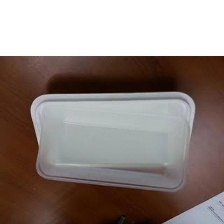plastic_box: (24, 83, 202, 198)
